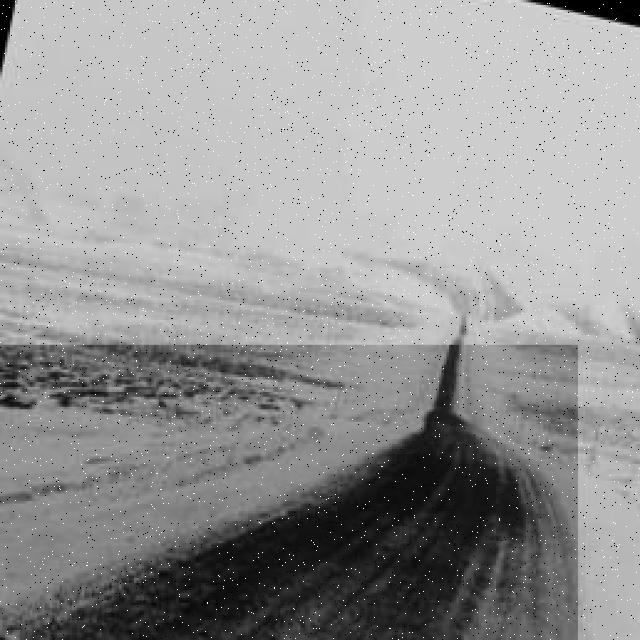ice-road: (1, 345, 573, 640)
